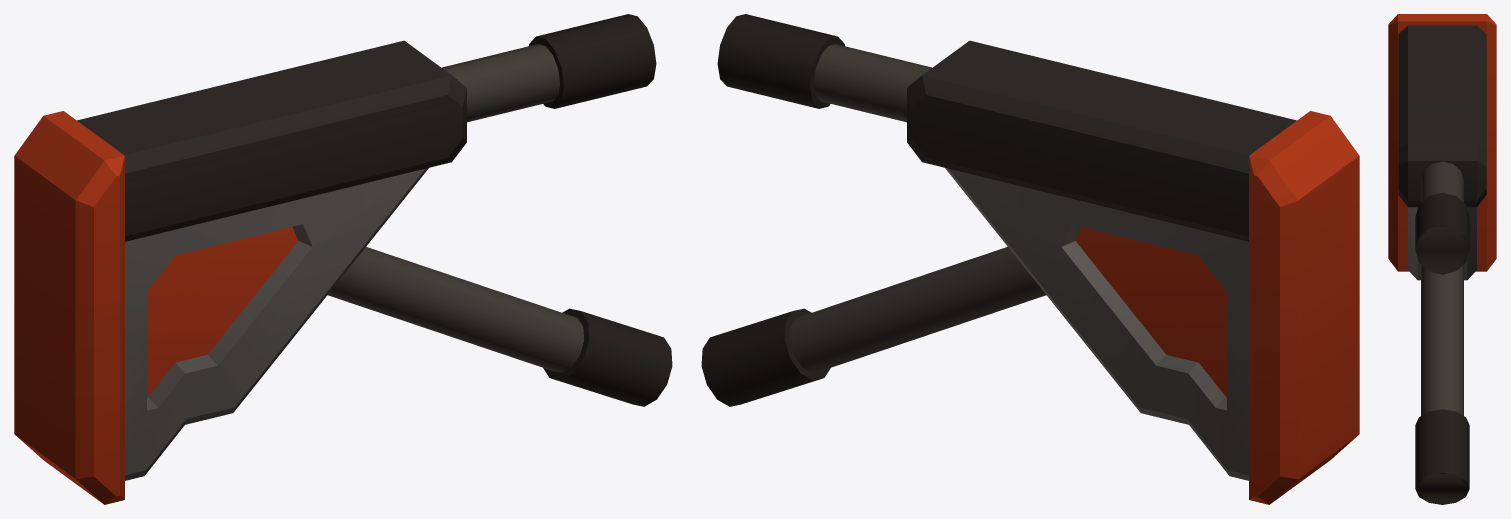
File: Shotgun1_ButtstockLight.fbx
3 views of the same model, side by side, from view 1: azimuth 30°, elevation 25°; view 2: azimuth 150°, elevation 25°; view 3: azimuth 270°, elevation 25° (orthographic). The views are drawn at different scales.
Visible parts, largest first — view 1: Shotgun1_ButtstockLight; view 2: Shotgun1_ButtstockLight; view 3: Shotgun1_ButtstockLight.
Part boxes in pixels (x1,y1,x2,y2): Shotgun1_ButtstockLight: (14, 14, 672, 504); Shotgun1_ButtstockLight: (701, 14, 1359, 504); Shotgun1_ButtstockLight: (1388, 14, 1496, 504).
Size of the model in its own units: 28.89 by 17.96 by 6.03.
